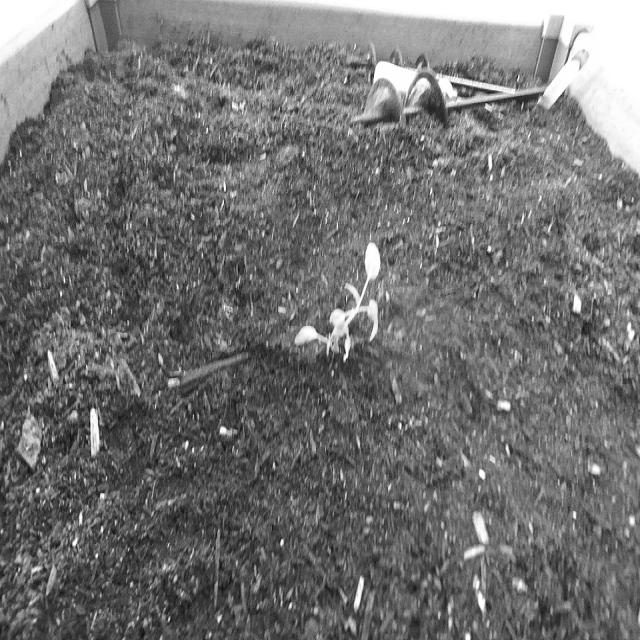Healthy: (287, 222, 401, 383)
